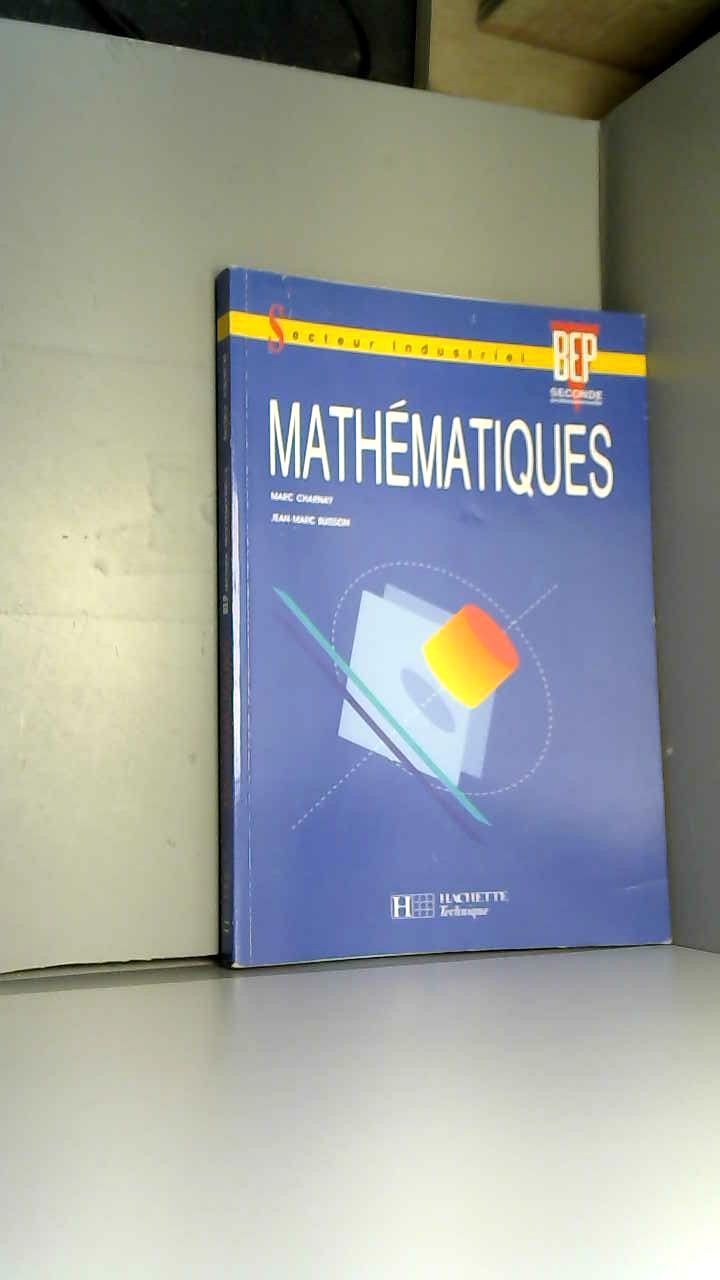book: (168, 226, 720, 998)
